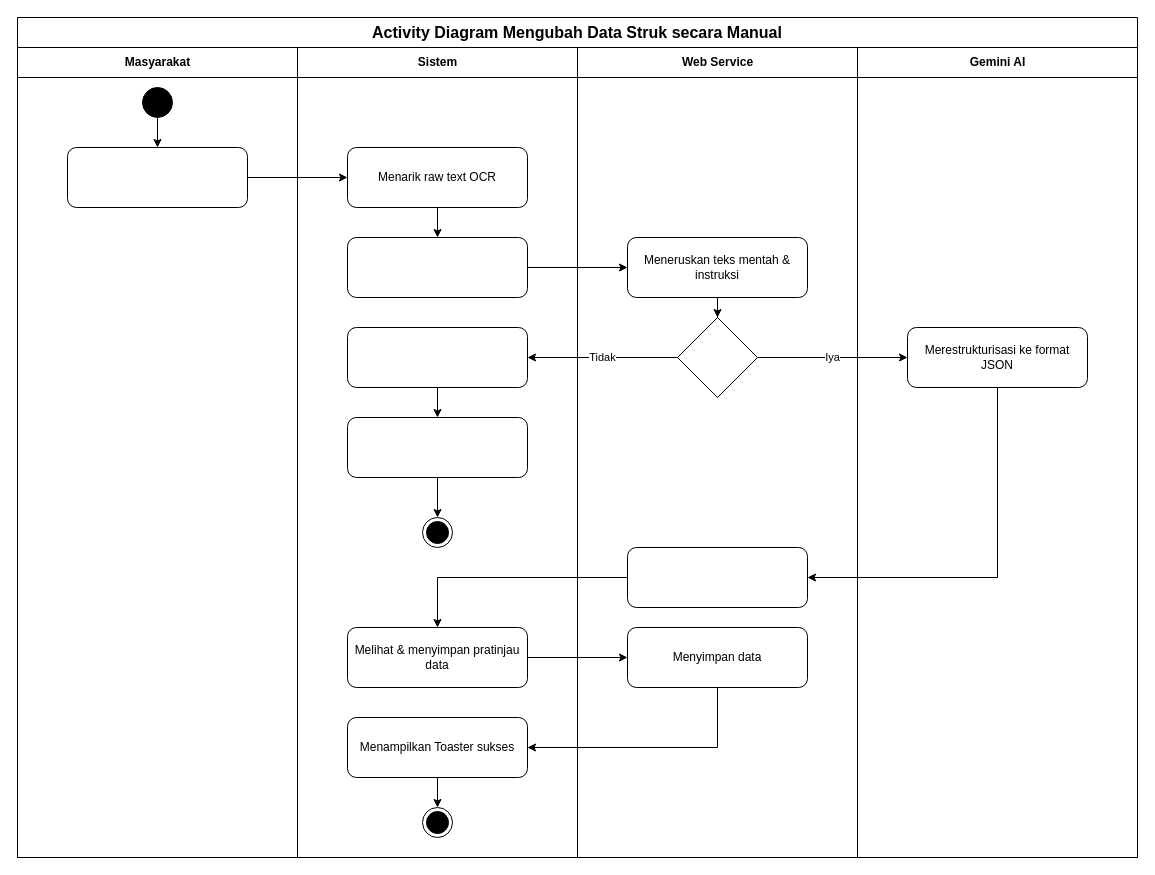
This 1155x875 diagram has some shape labels left out. The shapes that lost their labels are listed below. From the top down, each one's centre as x and y in pixels, then its label:
At point (157, 177): "Menekan opsi 'Perbaiki AI'".
At point (437, 267): "Mengirim request pemrosesan ulang".
At point (437, 357): "Menampilkan ilustrasi 'Gambar Gagal Dimuat'".
At point (717, 357): "Valid?".
At point (437, 447): "Menampilkan Toaster kegagalan".
At point (717, 577): "Memvalidasi & mengirim JSON".
